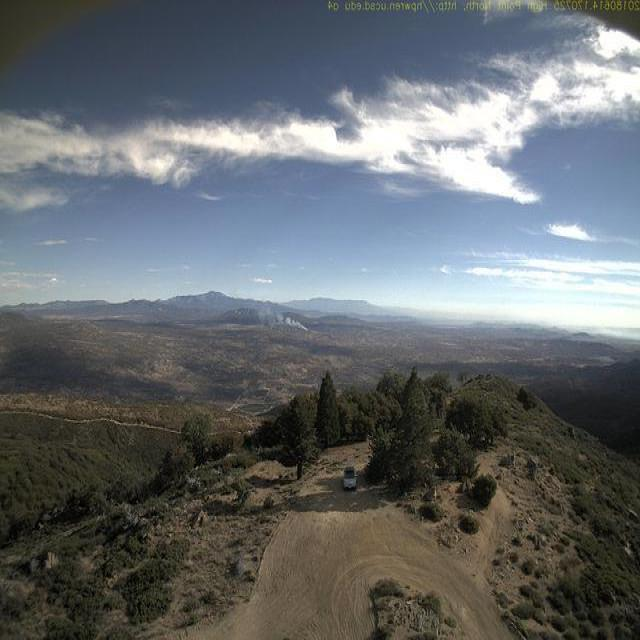Smoke: (221, 296, 315, 336)
